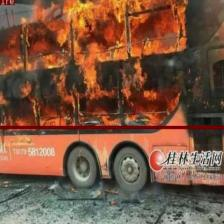fire: (0, 0, 224, 128)
